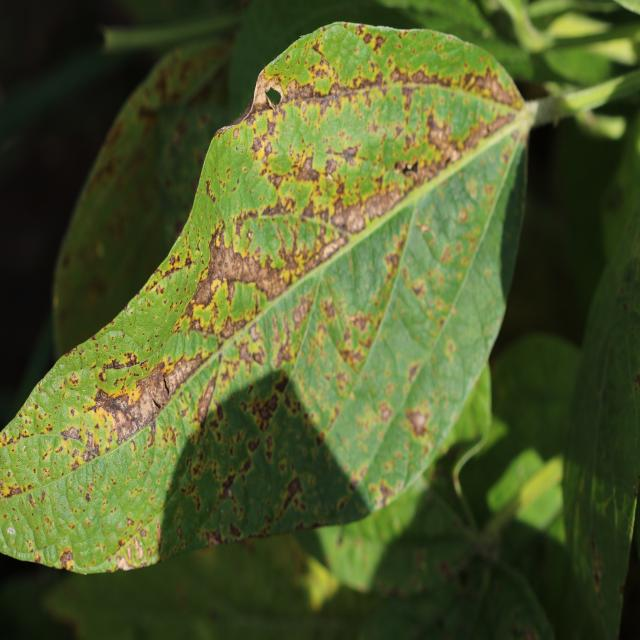Bacterial_Blight: (203, 209, 339, 328), (417, 97, 514, 177), (95, 367, 194, 429), (219, 63, 286, 135), (325, 182, 406, 236), (285, 73, 401, 104), (464, 66, 519, 106), (251, 385, 284, 430), (192, 267, 218, 307), (114, 540, 148, 570), (323, 144, 362, 170), (261, 193, 298, 218), (76, 429, 103, 461), (406, 408, 429, 436), (101, 357, 132, 375), (59, 549, 74, 570), (4, 484, 23, 498)
Soybean: (0, 22, 534, 572)
